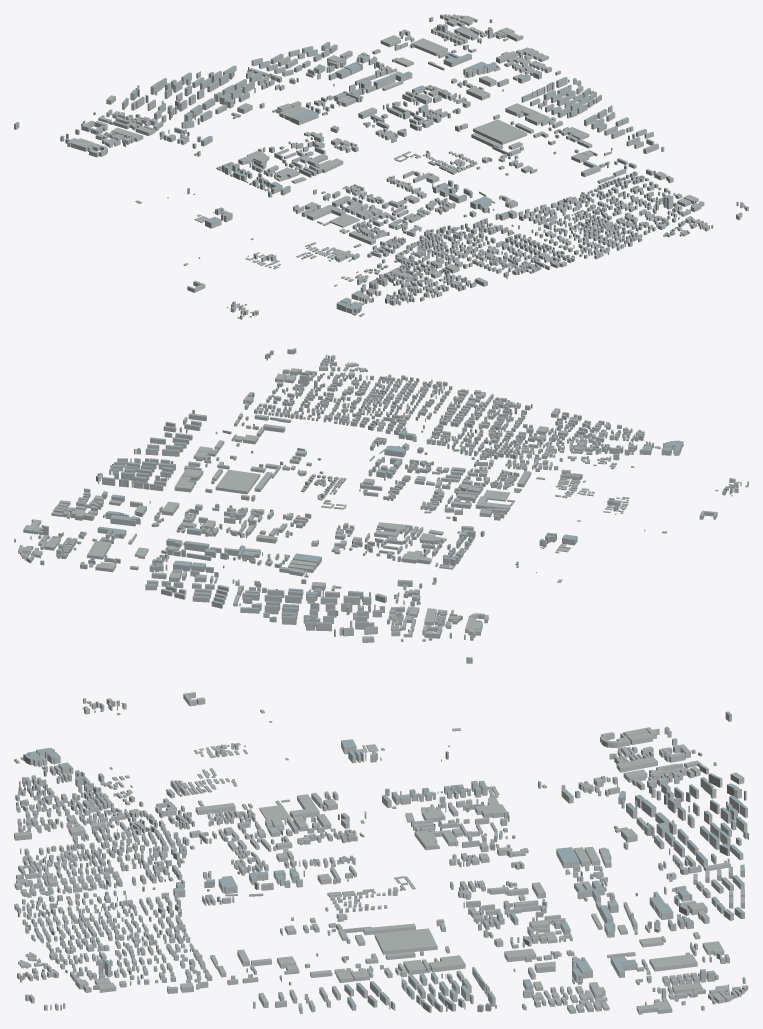
File: far.glb
3 views of the same model, one above another, from view 1: azimuth 30°, elevation 25°; view 2: azimuth 150°, elevation 25°; view 3: azimuth 270°, elevation 25° (orthographic). The views are drawn at different scales.
Size of the model in its own units: 2160 by 45.3 by 2109.
